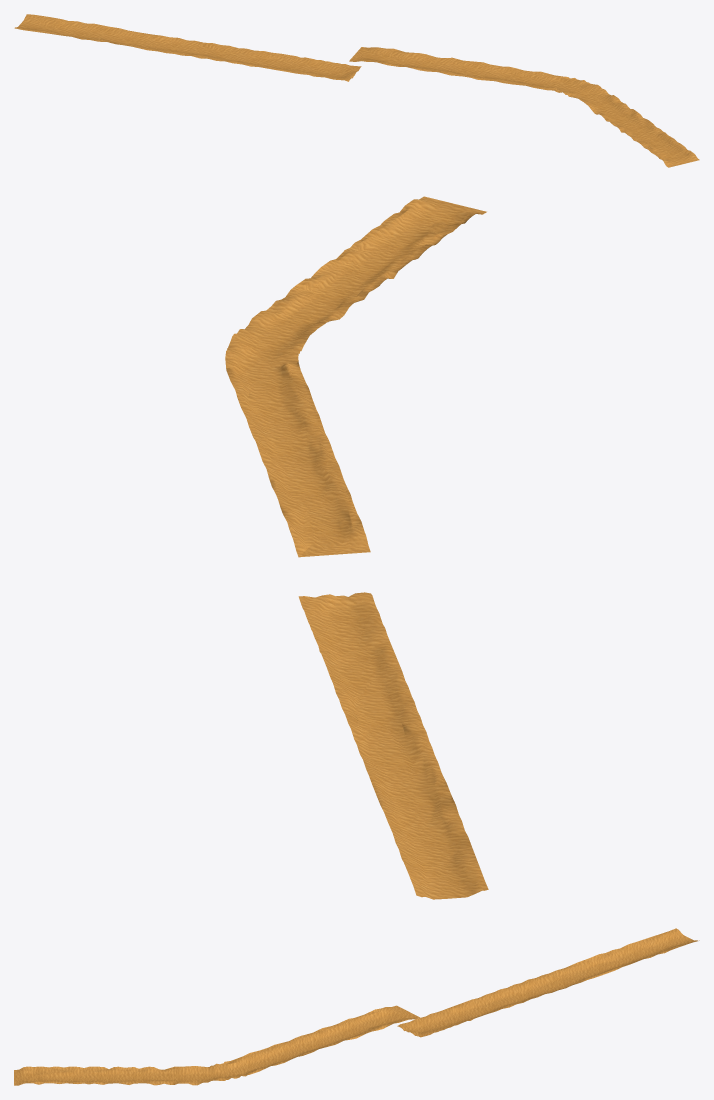
Rendered from fireRoomConnector_sandFloor.fbx.
3 views of the same model, one above another, from view 1: azimuth 30°, elevation 25°; view 2: azimuth 150°, elevation 25°; view 3: azimuth 270°, elevation 25° (orthographic). The views are drawn at different scales.
Visible parts, largest first — view 1: jumpRoomExitConnector.sandFloor; view 2: jumpRoomExitConnector.sandFloor; view 3: jumpRoomExitConnector.sandFloor.
Boxes of the visible parts, x1=… form: jumpRoomExitConnector.sandFloor: x1=14, y1=14, x2=699, y2=167; jumpRoomExitConnector.sandFloor: x1=225, y1=196, x2=488, y2=899; jumpRoomExitConnector.sandFloor: x1=14, y1=928, x2=699, y2=1085.
Bounding box in the file's own units: 7478 × 532 × 12204.
